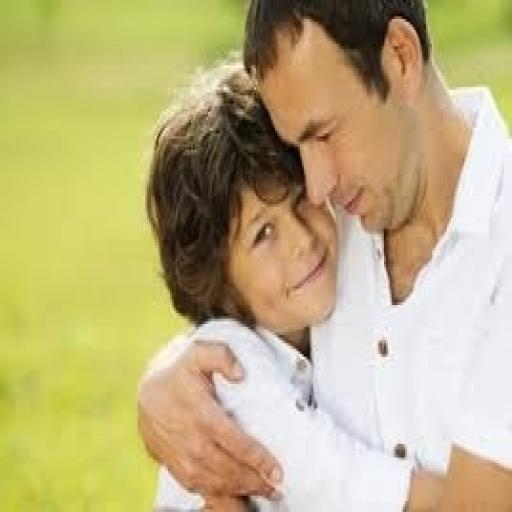hugging: (135, 0, 510, 509)
